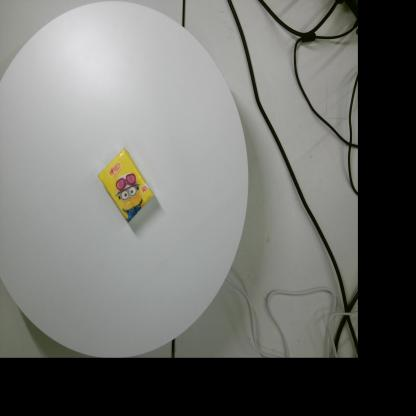Tissue: (97, 147, 154, 222)
